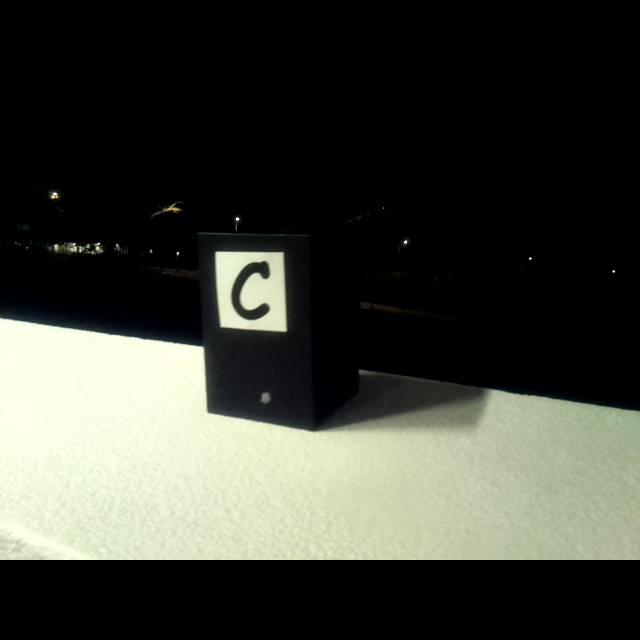C: (231, 260, 271, 321)
